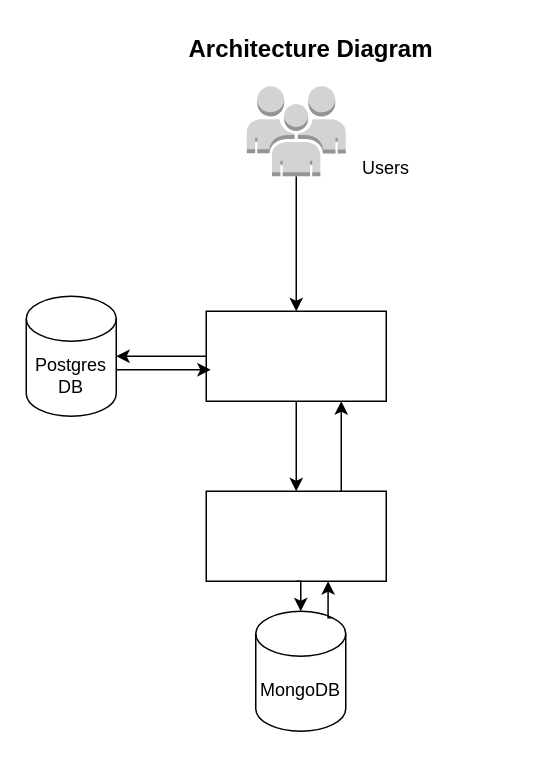
Some shapes in this 548 by 758 pixel diagram are drawn without their labels. The shapes that lost their labels are listed below. From the top down, each one's centre as x and y in pixels, then its label:
(x=295, y=355): auth-gateway
(x=295, y=535): Holidays
